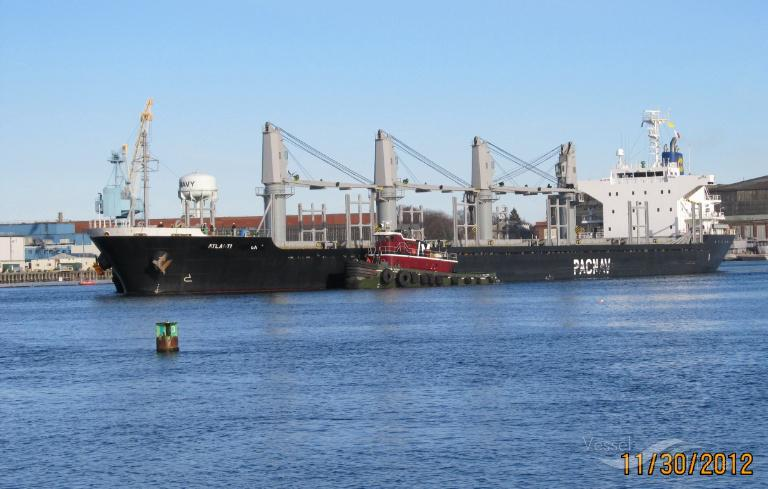OCR: (564, 253, 616, 281)
